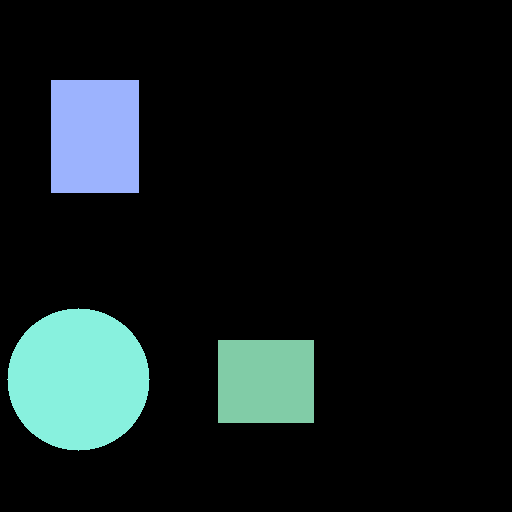circle: (7, 308, 149, 450)
rectangle: (51, 80, 138, 192), (218, 340, 313, 422)
